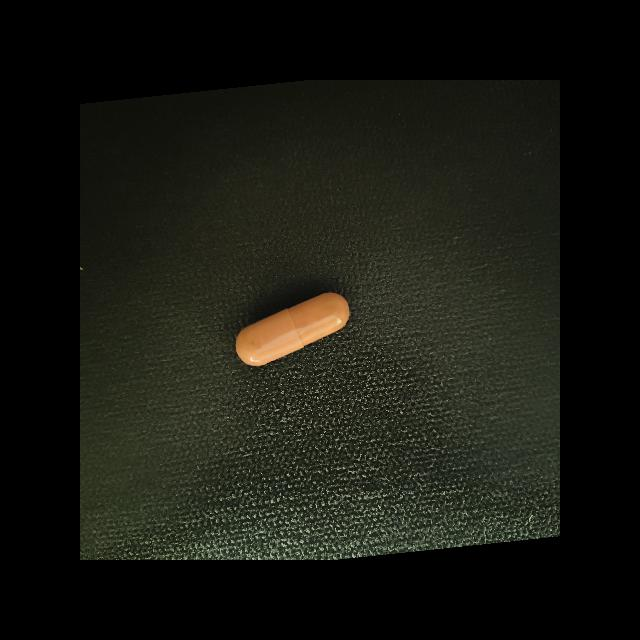Intact Capsule: (235, 292, 350, 366)
